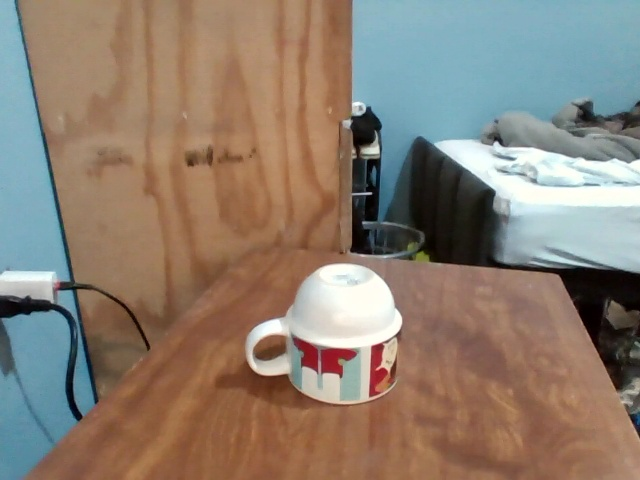taza: (244, 262, 402, 403)
